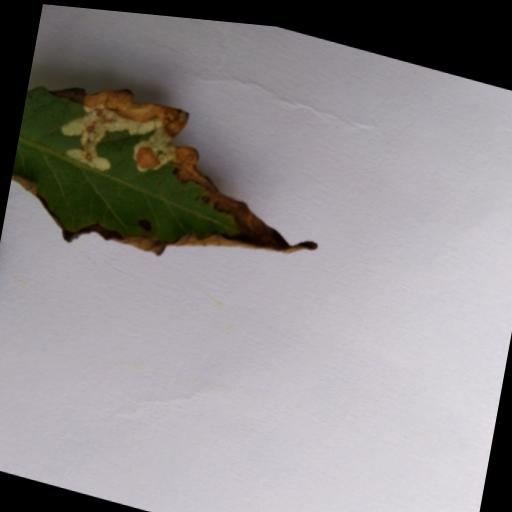Leaf_Miner: (34, 51, 206, 216)
